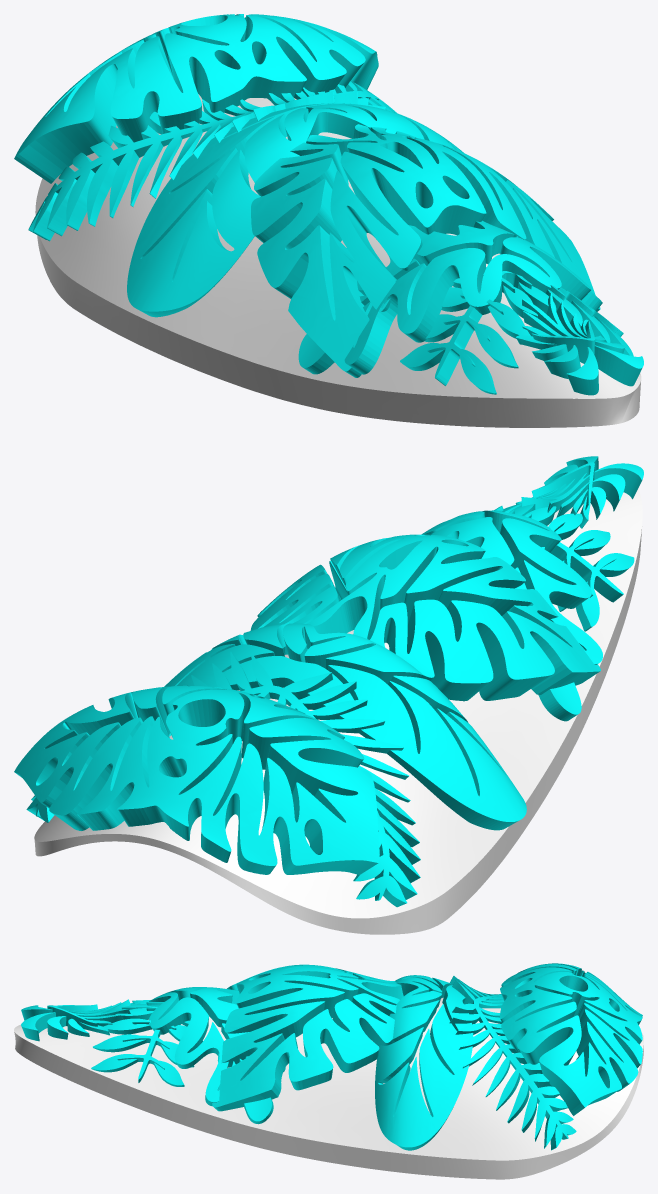
File: jungle-stiletto-web.glb
3 views of the same model, one above another, from view 1: azimuth 30°, elevation 25°; view 2: azimuth 150°, elevation 25°; view 3: azimuth 270°, elevation 25° (orthographic). The views are drawn at different scales.
Bounding box in the file's own units: 0.0144 × 0.00765 × 0.0301.
